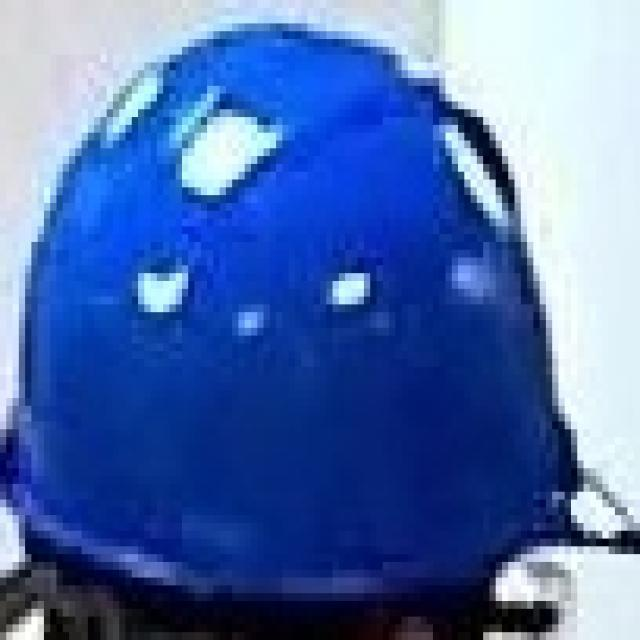helmet: (4, 24, 575, 637)
